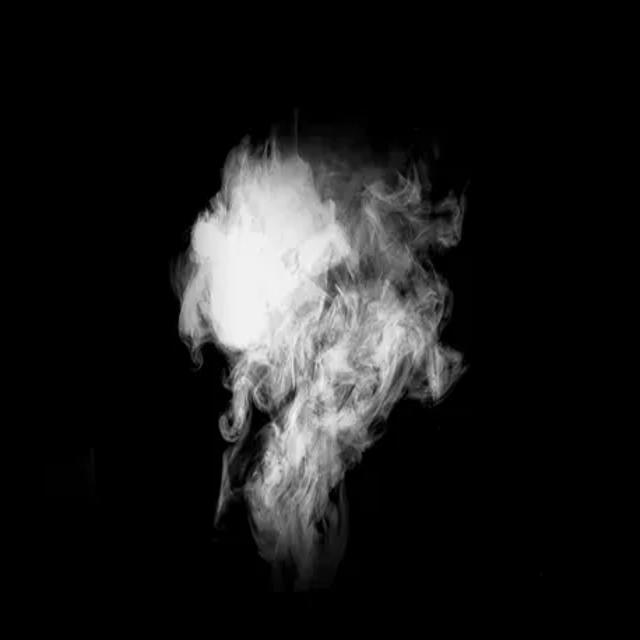Smoke: (178, 139, 464, 564)
